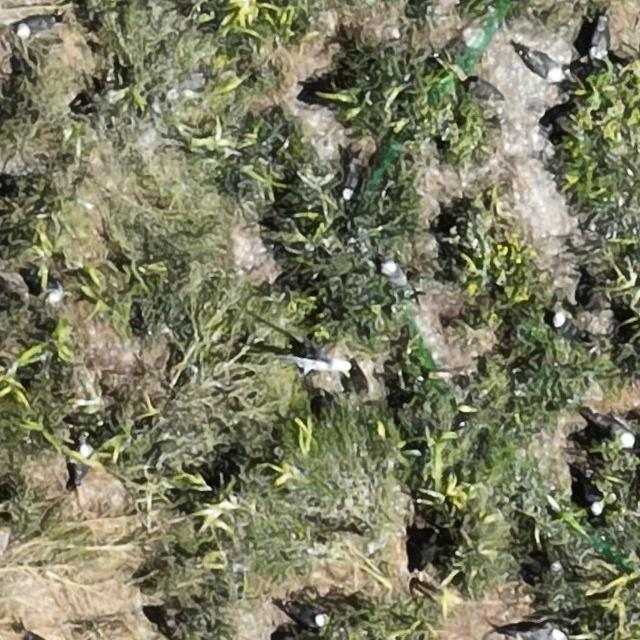umineko: (28, 272, 64, 307), (554, 314, 587, 343), (288, 606, 326, 628), (527, 54, 561, 78), (386, 262, 410, 293), (513, 627, 565, 640), (18, 17, 52, 36), (586, 486, 603, 515)
